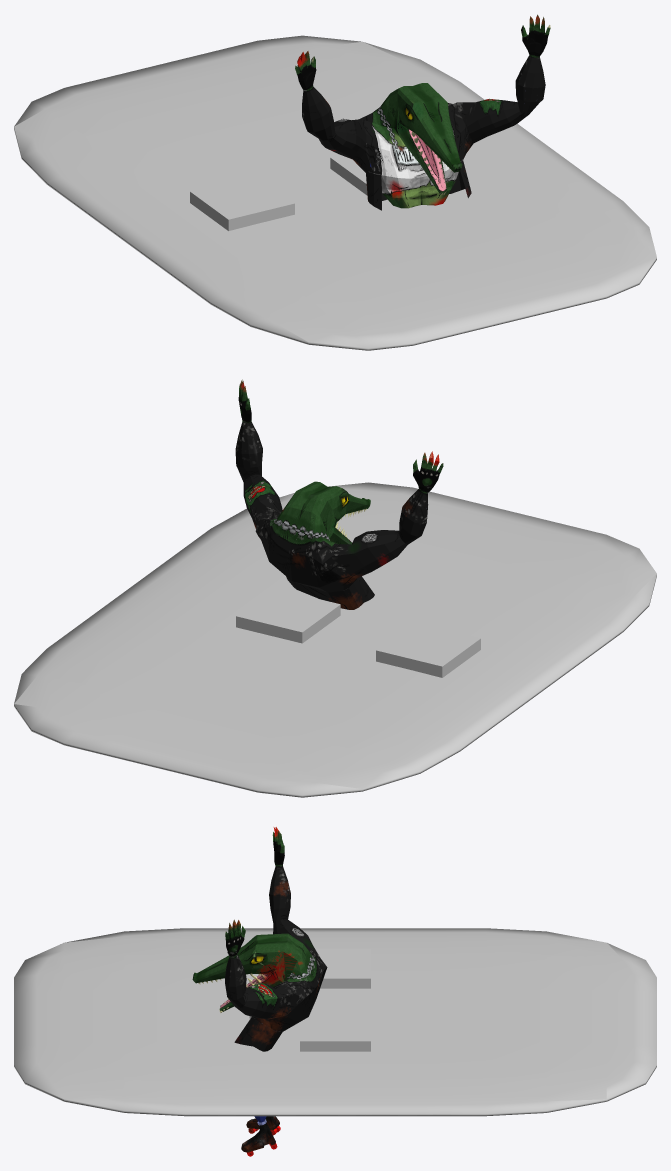
File: cocodrilaBonesSelect_000054.obj
The picture shows the model from 3 angles, top to bottom: view 1: azimuth 30°, elevation 25°; view 2: azimuth 150°, elevation 25°; view 3: azimuth 270°, elevation 25°; orthographic projection. The views are drawn at different scales.
Parts seen in each view (by area): view 1: Mball, Crocodile.002_Cylinder.002, Cube, Cube.001; view 2: Mball, Crocodile.002_Cylinder.002, Cube, Cube.001; view 3: Mball, Crocodile.002_Cylinder.002, Cube.001, Cube.
Boxes of the visible parts, <box> form: Mball: <box>14,35,656,350</box>; Crocodile.002_Cylinder.002: <box>295,14,550,210</box>; Cube: <box>190,175,294,230</box>; Cube.001: <box>330,155,367,195</box>; Mball: <box>14,482,656,797</box>; Crocodile.002_Cylinder.002: <box>235,379,443,609</box>; Cube: <box>376,622,480,677</box>; Cube.001: <box>236,588,340,643</box>; Mball: <box>14,928,656,1116</box>; Crocodile.002_Cylinder.002: <box>192,827,327,1156</box>; Cube.001: <box>300,1011,370,1051</box>; Cube: <box>315,948,370,988</box>.
Size of the model in its own units: 12.42 by 8.5 by 18.18.
